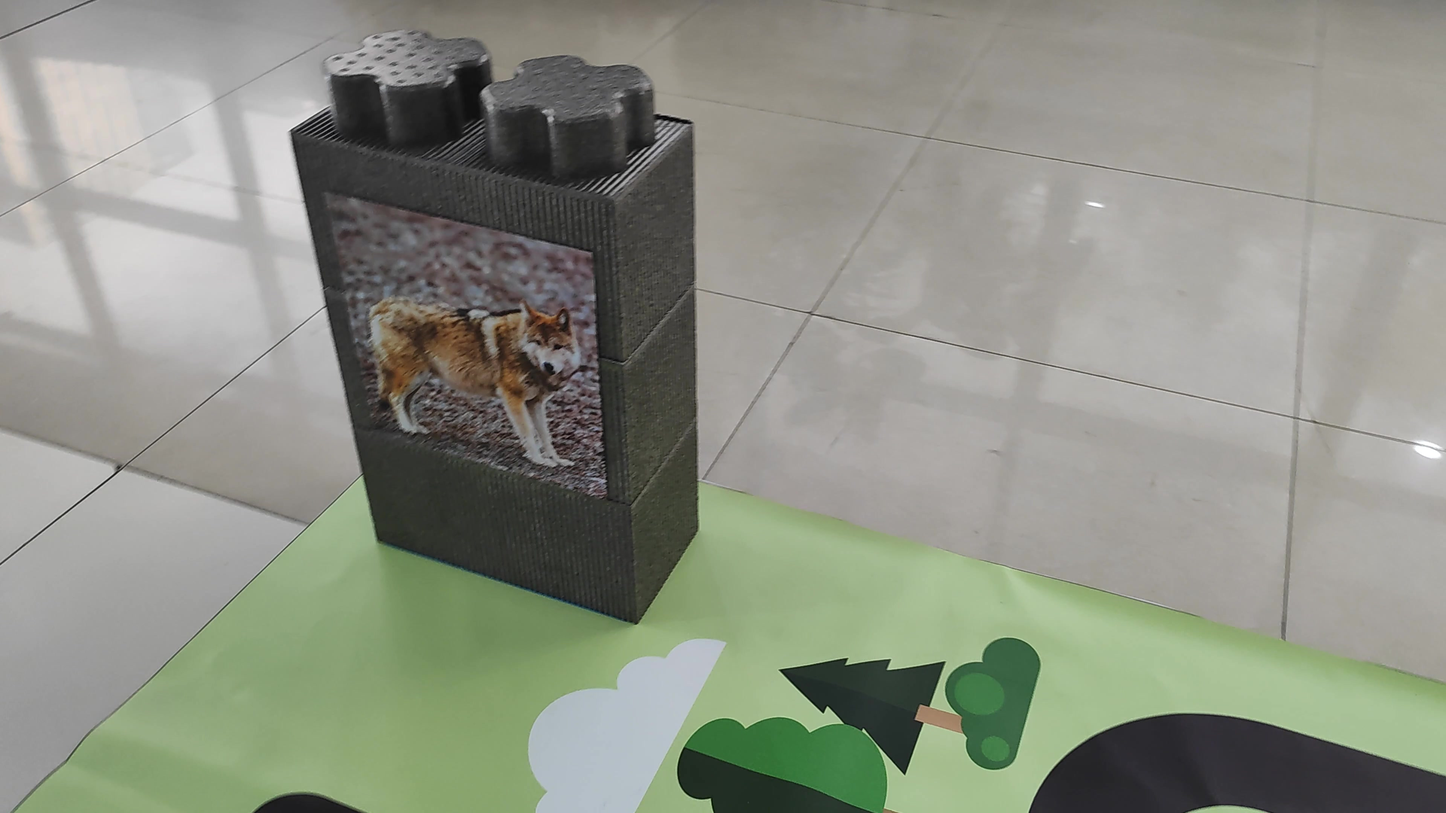wolf: (344, 203, 595, 459)
